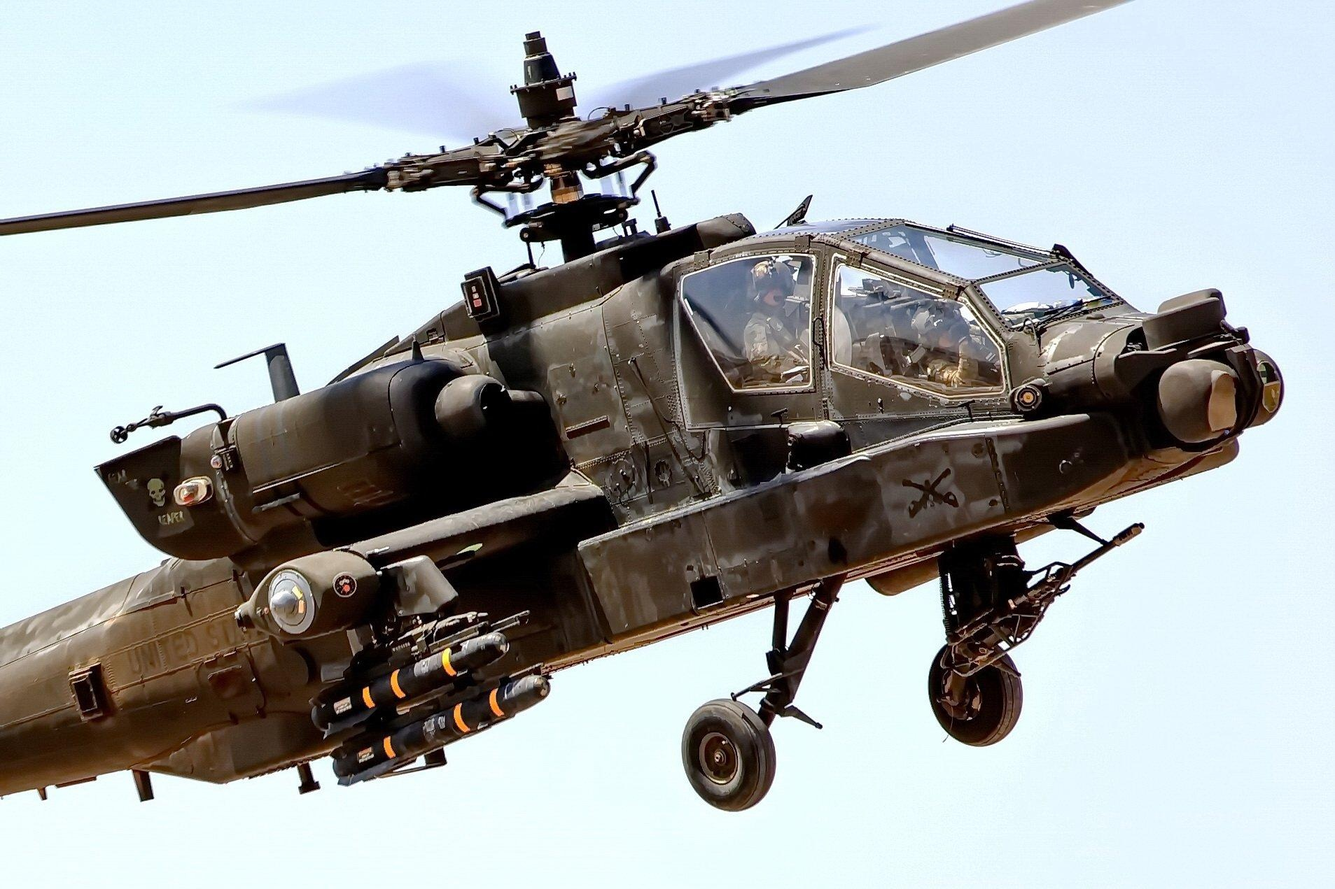aircraft: (32, 59, 1292, 818)
